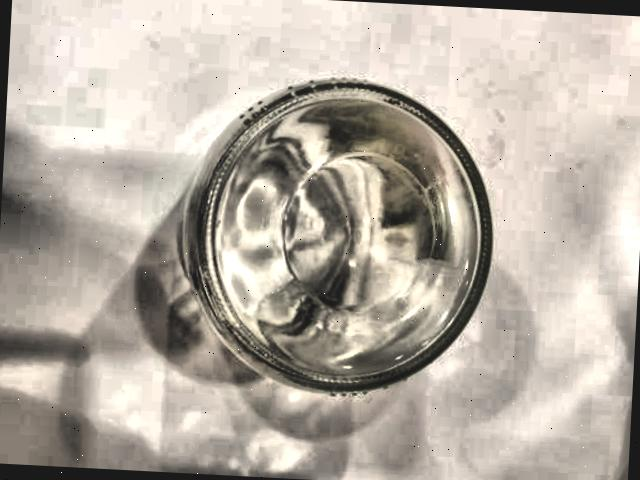Almennt: (147, 53, 506, 422)
